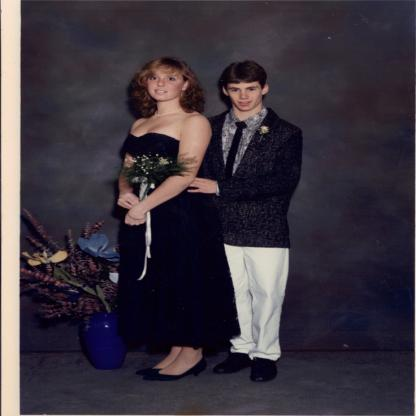vase: (78, 312, 130, 371)
